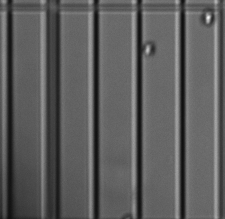Living Cell: (202, 8, 215, 27), (143, 41, 156, 57)
